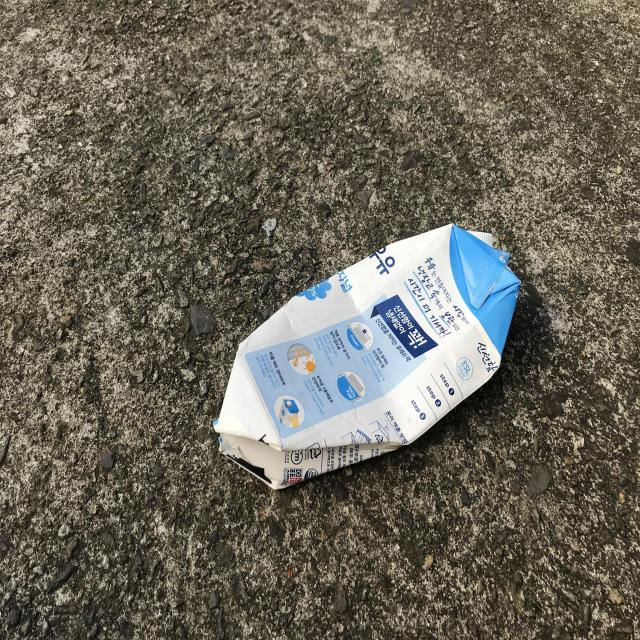paperpack: (214, 224, 521, 490)
